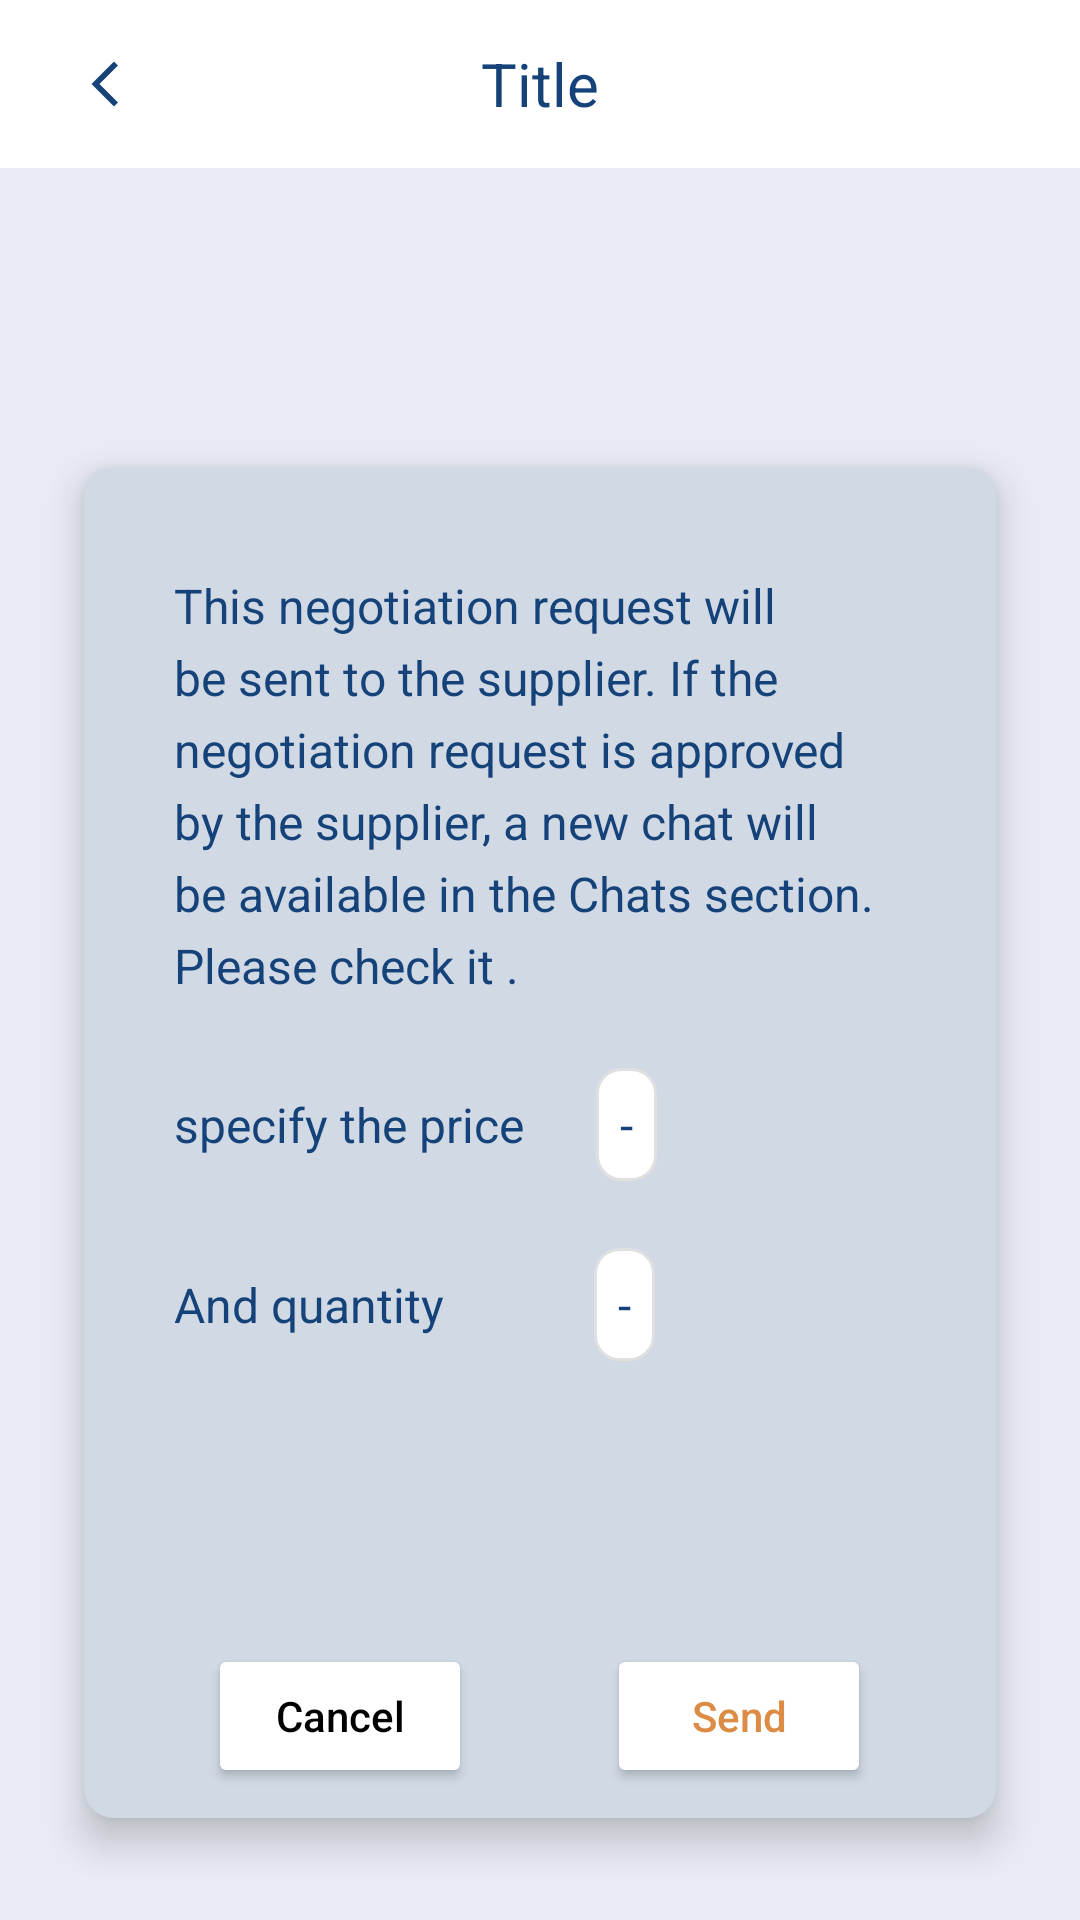

Icons on this 1080*1920 Android screen, each with its box as (x1, y1, x2, y2):
Back Button: (91, 61, 118, 107)
